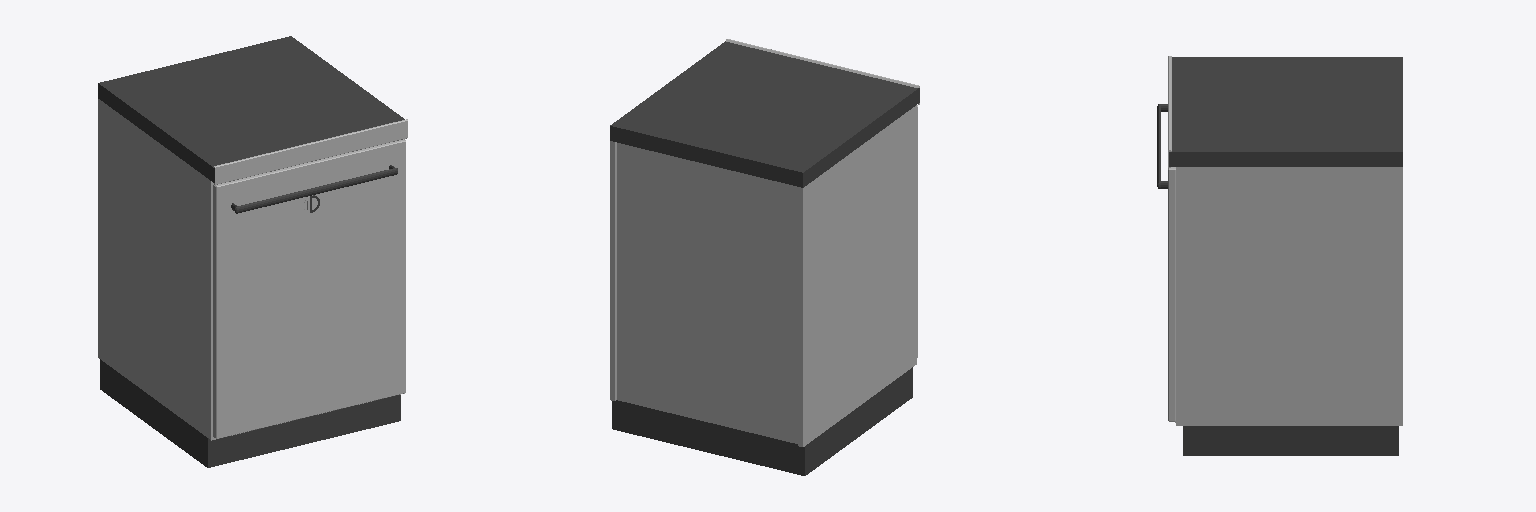
File: Dishwasher2.obj
3 views of the same model, side by side, from view 1: azimuth 30°, elevation 25°; view 2: azimuth 150°, elevation 25°; view 3: azimuth 270°, elevation 25° (orthographic).
Parts seen in each view (by area): view 1: sweethome3d_opening_on_hinge_1_door_4_11_12_12, frame_3_3_3_3, top_1_1_1_1, toekick_4_4_4_4, border_2_2_2_2, sweethome3d_opening_on_hinge_1_handle_5_10_13_11; view 2: back_5_5_5_5, frame_3_3_3_3, top_1_1_1_1, toekick_4_4_4_4, border_2_2_2_2; view 3: frame_3_3_3_3, top_1_1_1_1, toekick_4_4_4_4, sweethome3d_opening_on_hinge_1_door_4_11_12_12.
Part boxes in pixels (x1,y1,x2,y2): sweethome3d_opening_on_hinge_1_door_4_11_12_12: (213,139,405,438); frame_3_3_3_3: (98,99,404,440); top_1_1_1_1: (98,36,404,182); toekick_4_4_4_4: (100,359,400,467); border_2_2_2_2: (213,119,407,184); sweethome3d_opening_on_hinge_1_handle_5_10_13_11: (231,165,397,213); back_5_5_5_5: (617,143,797,443); frame_3_3_3_3: (610,105,916,446); top_1_1_1_1: (610,41,919,187); toekick_4_4_4_4: (612,367,912,475); border_2_2_2_2: (726,39,919,104); frame_3_3_3_3: (1176,167,1402,425); top_1_1_1_1: (1169,57,1402,166); toekick_4_4_4_4: (1183,426,1398,455); sweethome3d_opening_on_hinge_1_door_4_11_12_12: (1168,167,1175,421).
Bounding box in the file's own units: 60 × 91 × 66.